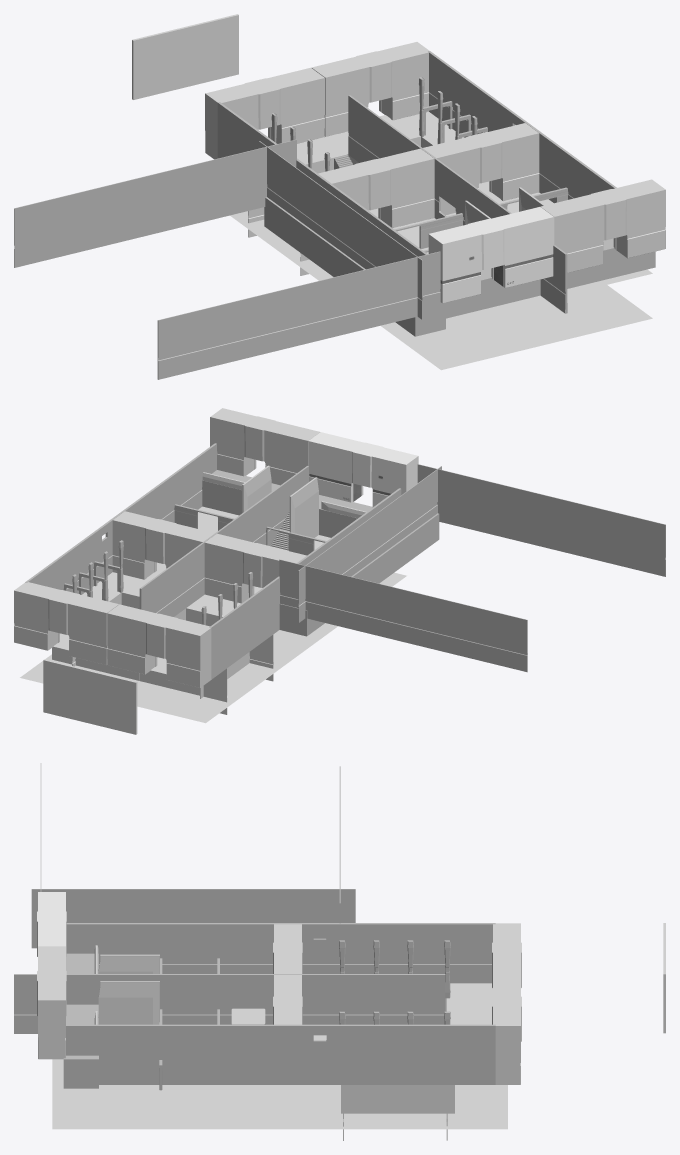
3 renders of one model, top to bottom at view 1: azimuth 30°, elevation 25°; view 2: azimuth 150°, elevation 25°; view 3: azimuth 270°, elevation 25°, orthographic. The views are drawn at different scales.
Visible parts, largest first — view 1: Cube_10_2, Cube_10_1, TransistionWall_1, TransistionWall, Plane_1_2, Cube_1_1, TransistionWall_2_4, TransistionWall_3, Cube_10, Cube, Cube_1, Plane_1 (+5 smaller); view 2: Cube_10_1, Cube_10_2, TransistionWall_1, Cube_1_1, TransistionWall, TransistionWall_2_4, Cube_1, TransistionWall_3, Cube_10, Plane_1_2, Cube, Cube_4_4 (+7 smaller); view 3: Cube_1_1, Plane_1_2, Cube_1, Cube_10, TransistionWall_1, Cube_4_2, Cube_5, TransistionWall_3, TransistionWall, Plane_1, Cube_4_3, TransistionWall_2_4.
Part boxes in pixels (x1=…): Cube_10_2: x1=157, y1=251, x2=440, y2=379; Cube_10_1: x1=14, y1=139, x2=296, y2=267; TransistionWall_1: x1=205, y1=42, x2=429, y2=159; TransistionWall: x1=318, y1=123, x2=539, y2=227; Plane_1_2: x1=230, y1=211, x2=652, y2=370; Cube_1_1: x1=217, y1=51, x2=616, y2=256; TransistionWall_2_4: x1=428, y1=207, x2=554, y2=303; TransistionWall_3: x1=540, y1=179, x2=665, y2=272; Cube_10: x1=259, y1=141, x2=422, y2=319; Cube: x1=132, y1=14, x2=238, y2=99; Cube_1: x1=348, y1=95, x2=567, y2=313; Plane_1: x1=297, y1=111, x2=652, y2=323; Cube_10_1: x1=279, y1=559, x2=527, y2=672; Cube_10_2: x1=417, y1=464, x2=665, y2=576; TransistionWall_1: x1=14, y1=582, x2=211, y2=687; Cube_1_1: x1=25, y1=443, x2=401, y2=679; TransistionWall: x1=112, y1=511, x2=306, y2=603; TransistionWall_2_4: x1=308, y1=432, x2=418, y2=507; Cube_1: x1=139, y1=466, x2=309, y2=616; TransistionWall_3: x1=210, y1=408, x2=319, y2=485; Cube_10: x1=298, y1=466, x2=441, y2=622; Plane_1_2: x1=20, y1=572, x2=406, y2=723; Cube: x1=43, y1=659, x2=137, y2=734; Cube_4_4: x1=279, y1=513, x2=439, y2=636; Cube_1_1: x1=65, y1=923, x2=495, y2=1084; Plane_1_2: x1=52, y1=1085, x2=507, y2=1129; Cube_1: x1=14, y1=974, x2=445, y2=1033; Cube_10: x1=31, y1=889, x2=355, y2=948; TransistionWall_1: x1=492, y1=923, x2=521, y2=1084; Cube_4_2: x1=98, y1=954, x2=159, y2=1024; Cube_5: x1=341, y1=998, x2=454, y2=1113; TransistionWall_3: x1=37, y1=946, x2=66, y2=1059; TransistionWall: x1=273, y1=924, x2=302, y2=1024; Plane_1: x1=52, y1=983, x2=492, y2=1084; Cube_4_3: x1=63, y1=953, x2=98, y2=1088; TransistionWall_2_4: x1=37, y1=892, x2=66, y2=956.
Size of the model in its own units: 7722 by 2122 by 8581.
2 materials, 1 textured.
